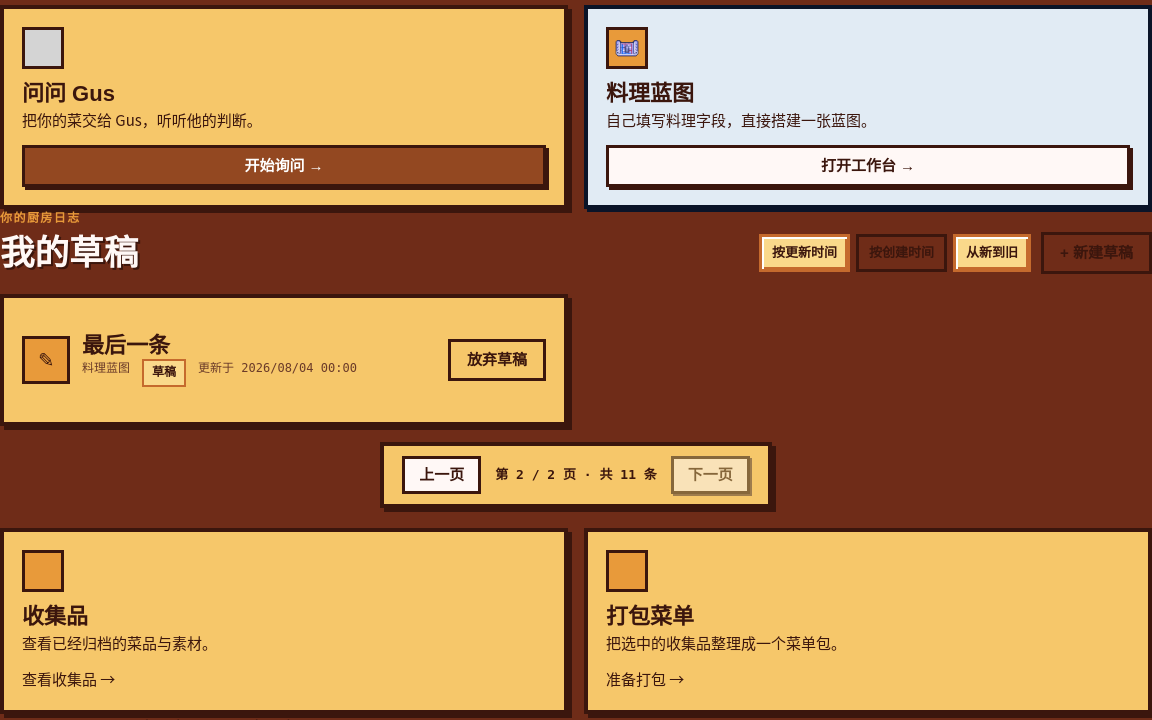
home page draft pagination and sorting (M13 Task 57) › replaces the URL with page one after deleting the final item on page two
(page scrolled)
Expected: the heading "最后一条" is shown, x1=82 y1=333 x2=170 y2=358
Click the button "放弃草稿" at coordinates (497, 360), box x1=448 y1=339 x2=546 y2=381
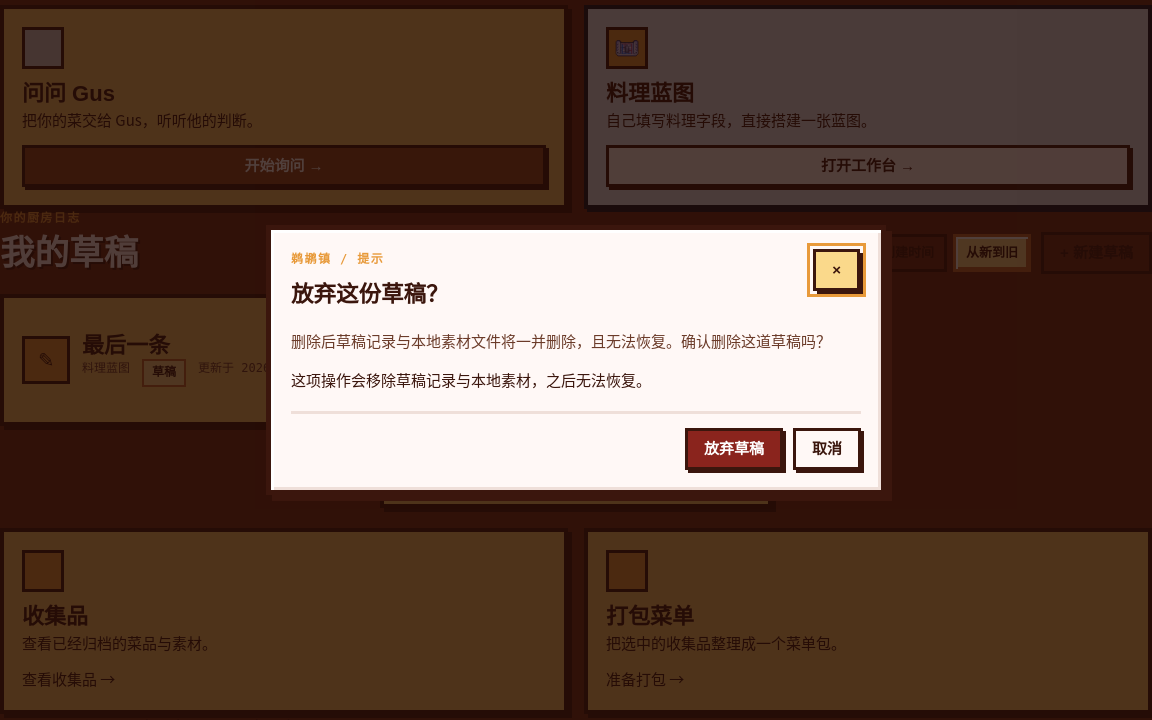
Click the button "放弃草稿" at coordinates (734, 449), box x1=685 y1=428 x2=783 y2=470
(page scrolled)
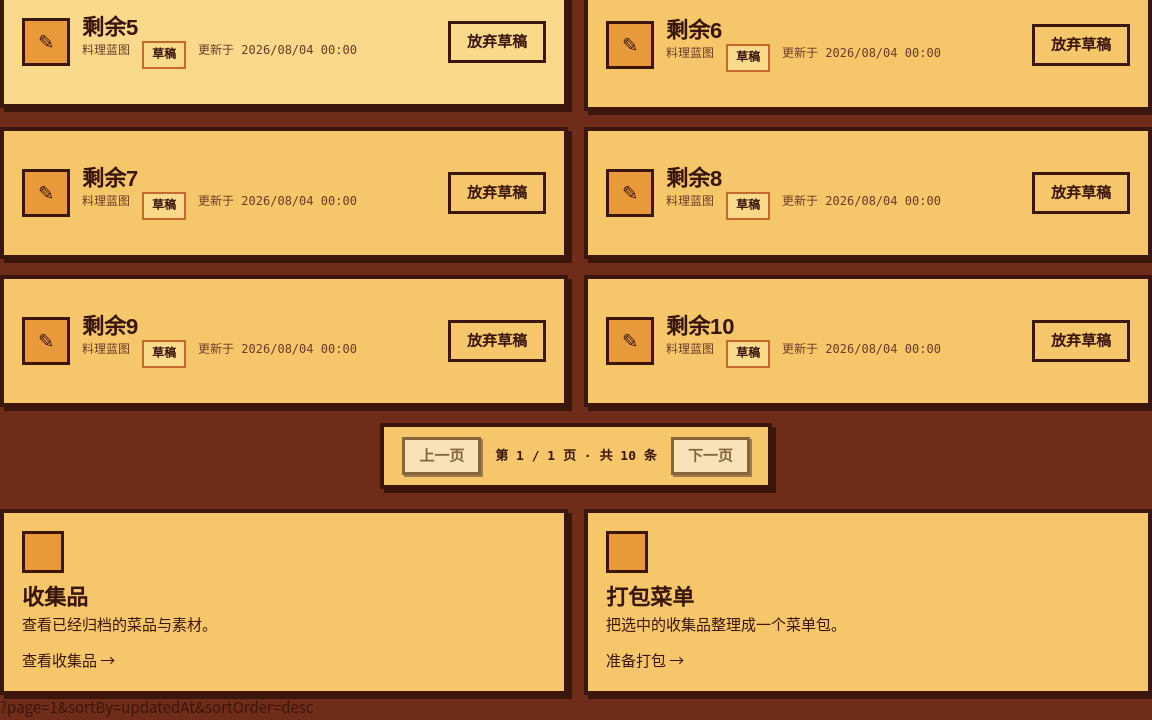
Result: the text with test id "home-location" reads "?page=1&sortBy=updatedAt&sortOrder=desc" at x1=0 y1=696 x2=314 y2=717
